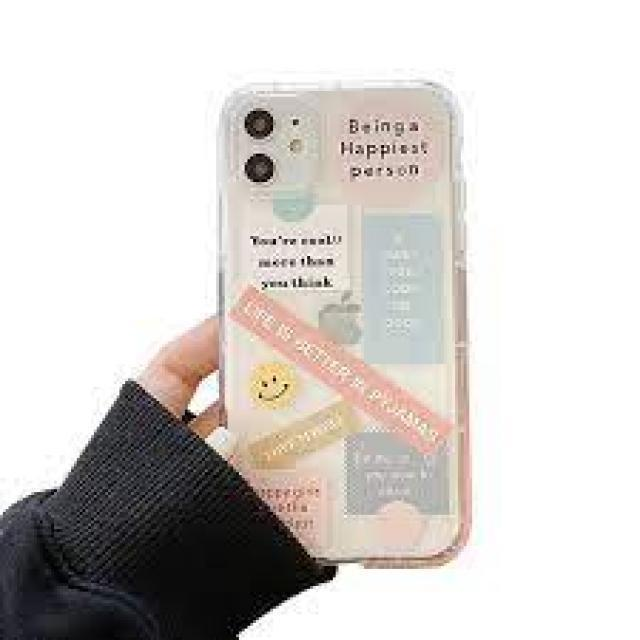lens: (232, 101, 325, 190)
phone: (213, 82, 477, 568)
